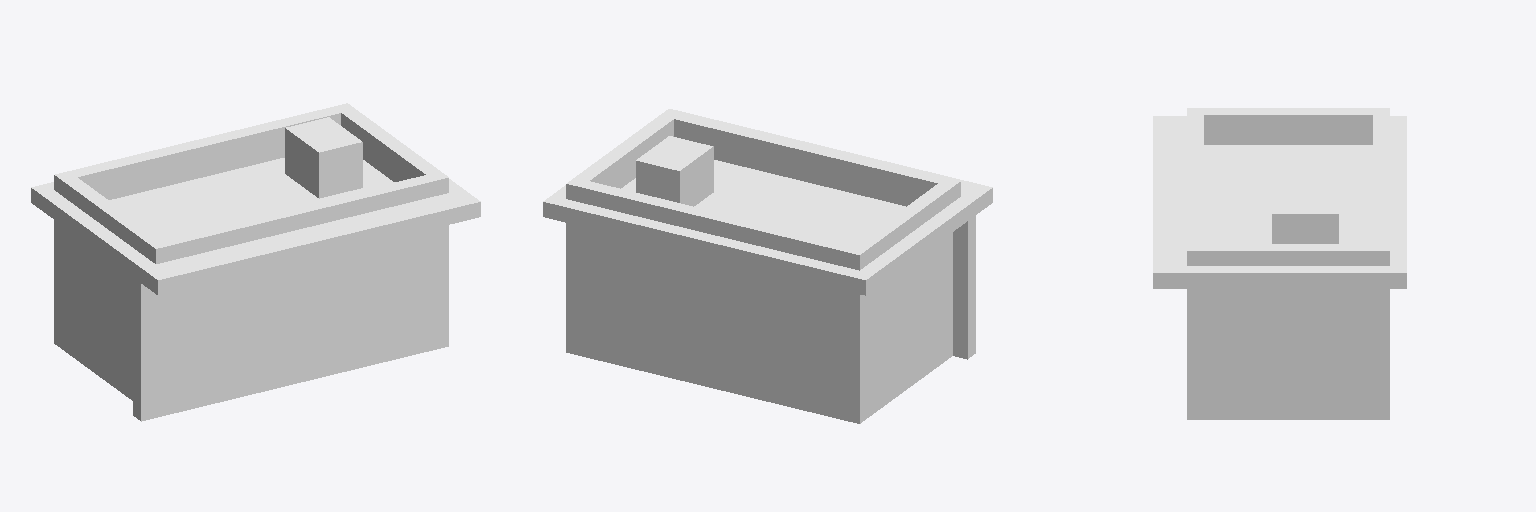
Rendered from shop1_black_n_white.obj.
3 renders of one model, left to right at view 1: azimuth 30°, elevation 25°; view 2: azimuth 150°, elevation 25°; view 3: azimuth 270°, elevation 25°, orthographic.
Parts seen in each view (by area): view 1: shop1_black_n_white; view 2: shop1_black_n_white; view 3: shop1_black_n_white.
Part boxes in pixels (left/top/right/bottom): shop1_black_n_white: left=31, top=103, right=480, bottom=421; shop1_black_n_white: left=543, top=109, right=992, bottom=423; shop1_black_n_white: left=1153, top=108, right=1406, bottom=419.
Bounding box in the file's own units: 22 × 12 × 15.